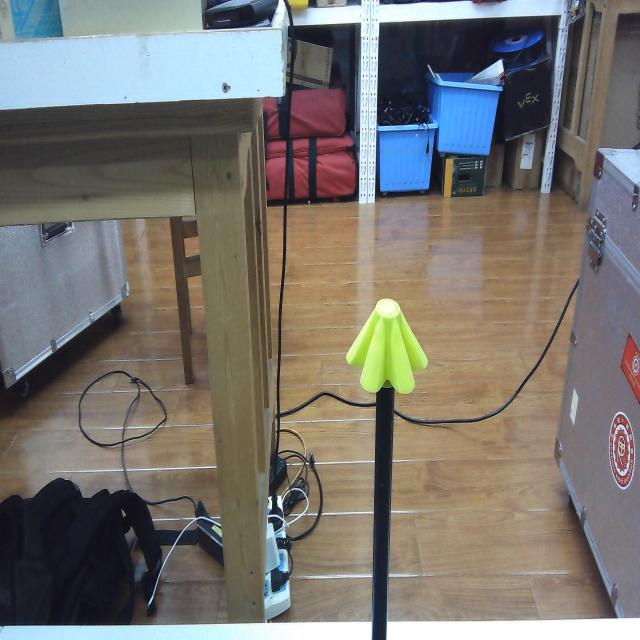Yellow-Stake-Head: (346, 298, 428, 395)
